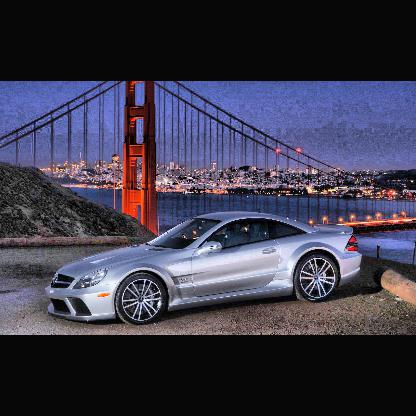Mercedes-Benz SL-Class Coupe 2009: (41, 209, 370, 328)
